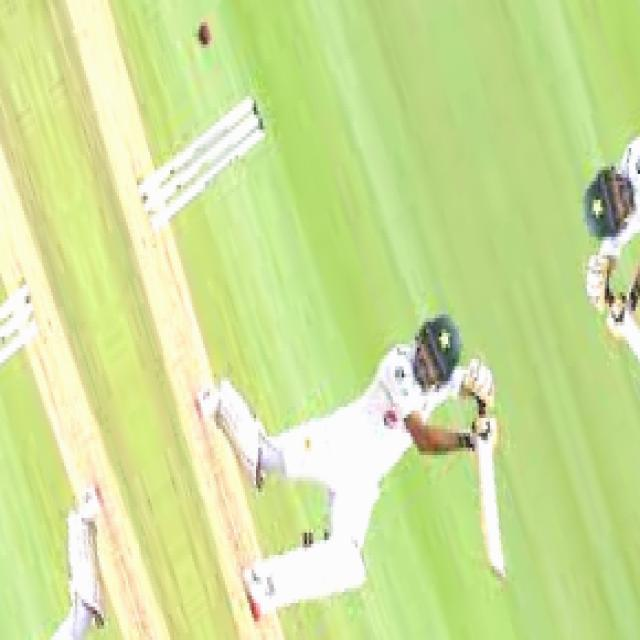bat: (468, 418, 511, 589)
toe: (485, 560, 510, 583)
